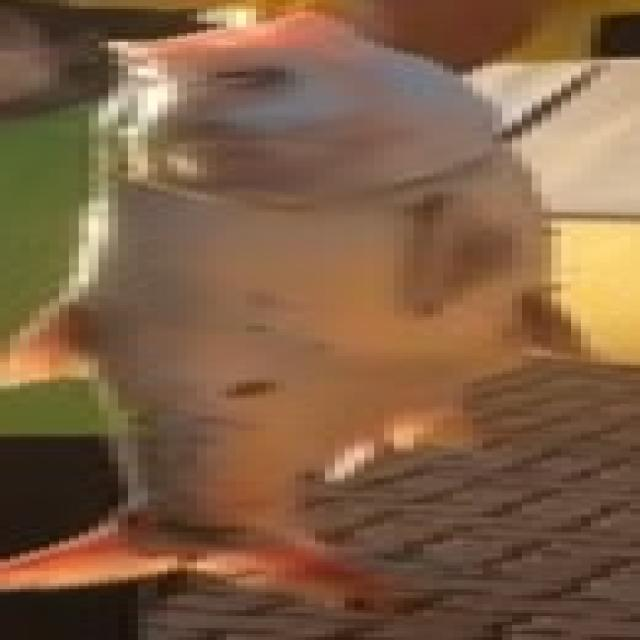Big-Head-Carp: (57, 15, 534, 615)
